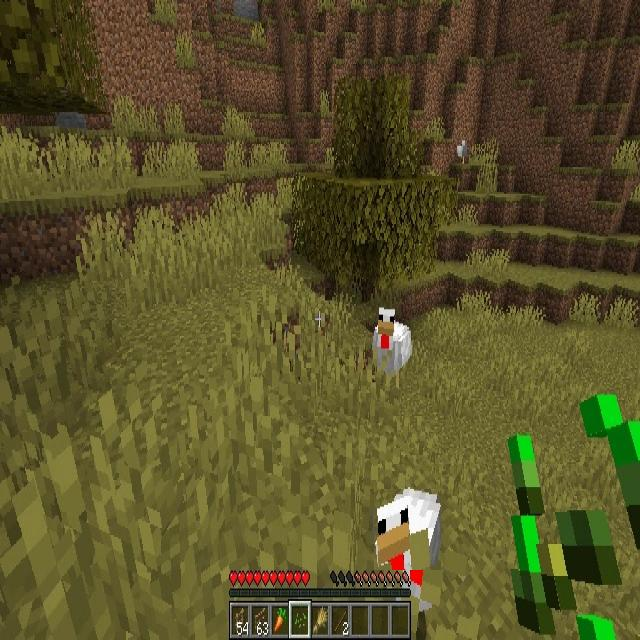duck: (374, 489, 441, 570), (370, 306, 413, 380), (456, 140, 468, 164)
